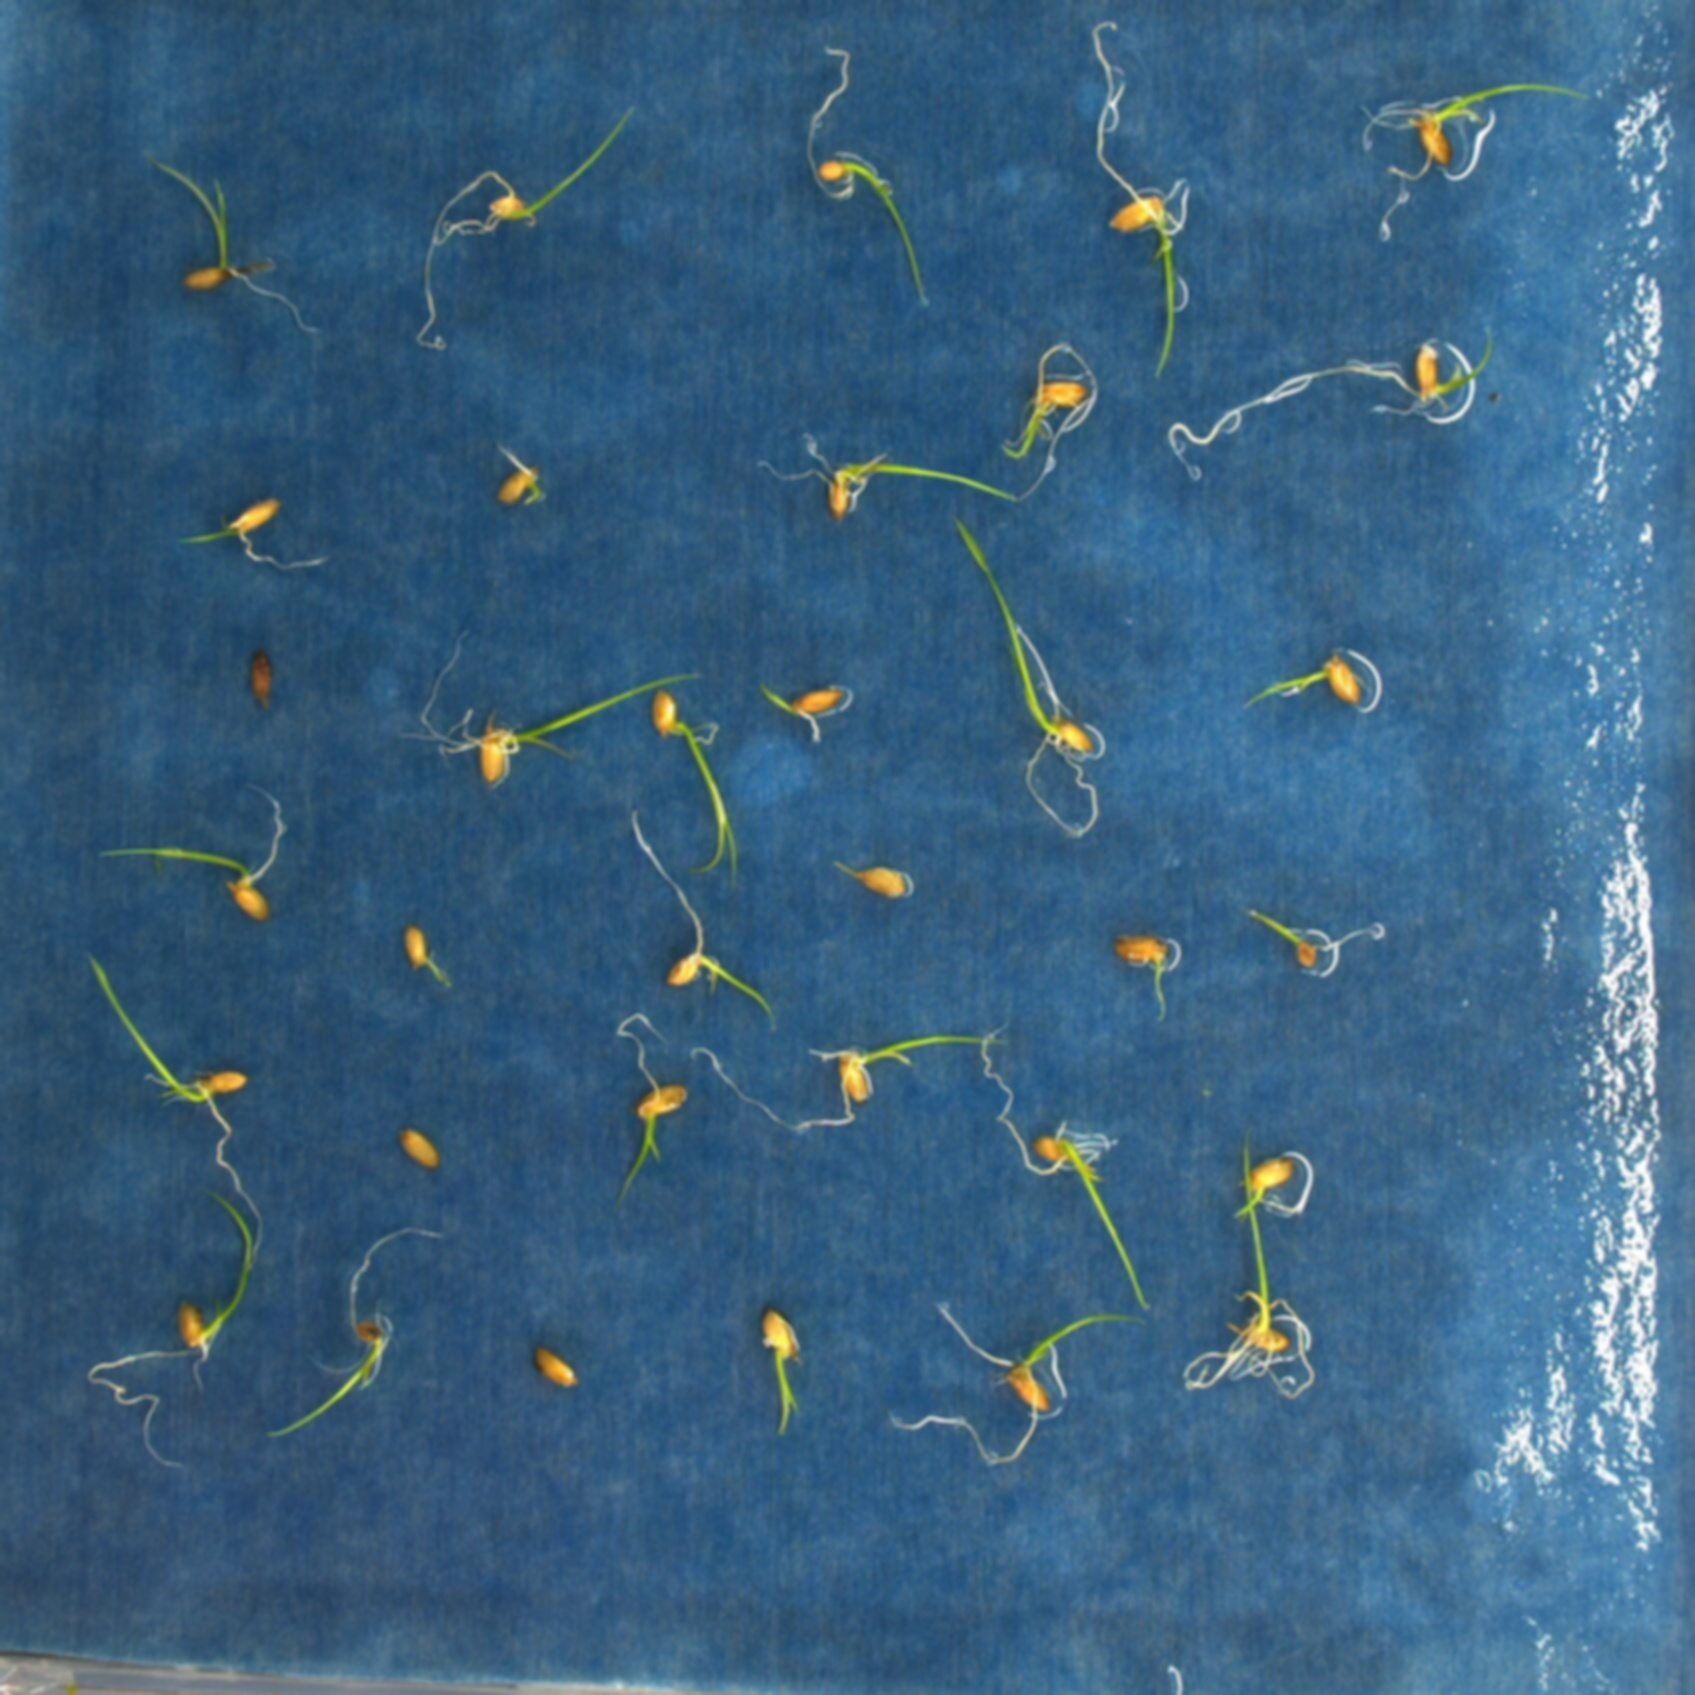not sprout: (834, 861, 908, 900), (529, 1341, 577, 1388), (400, 1128, 441, 1170), (248, 650, 273, 709)
sprout: (88, 955, 265, 1267), (414, 106, 633, 351), (1167, 324, 1492, 481), (979, 1024, 1152, 1313), (400, 627, 705, 785), (955, 512, 1099, 838), (87, 1187, 251, 1467), (888, 1302, 1144, 1465), (1181, 1125, 1315, 1402), (269, 1226, 442, 1437), (1360, 84, 1588, 241), (1091, 22, 1184, 377), (630, 810, 778, 1032), (691, 1034, 1010, 1135), (806, 47, 925, 301), (152, 158, 323, 334), (98, 782, 282, 924), (757, 432, 1020, 523), (650, 686, 739, 893), (1000, 343, 1097, 503), (618, 1012, 691, 1197), (179, 494, 331, 573), (1239, 650, 1363, 712), (1246, 908, 1377, 965), (759, 1307, 806, 1437), (1111, 931, 1172, 1023), (759, 683, 844, 745), (1231, 1155, 1298, 1218), (400, 925, 453, 990), (495, 439, 543, 504)
